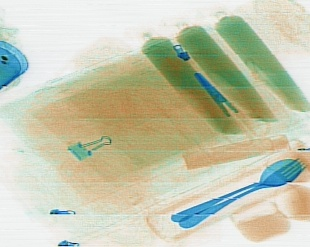scissors: (193, 70, 270, 147)
